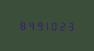eight: (17, 19, 24, 30)
four: (25, 19, 32, 30)
nine: (33, 19, 40, 30)
one: (41, 19, 48, 31)
three: (65, 20, 72, 31)
two: (57, 20, 64, 31)
zero: (49, 20, 56, 31)
